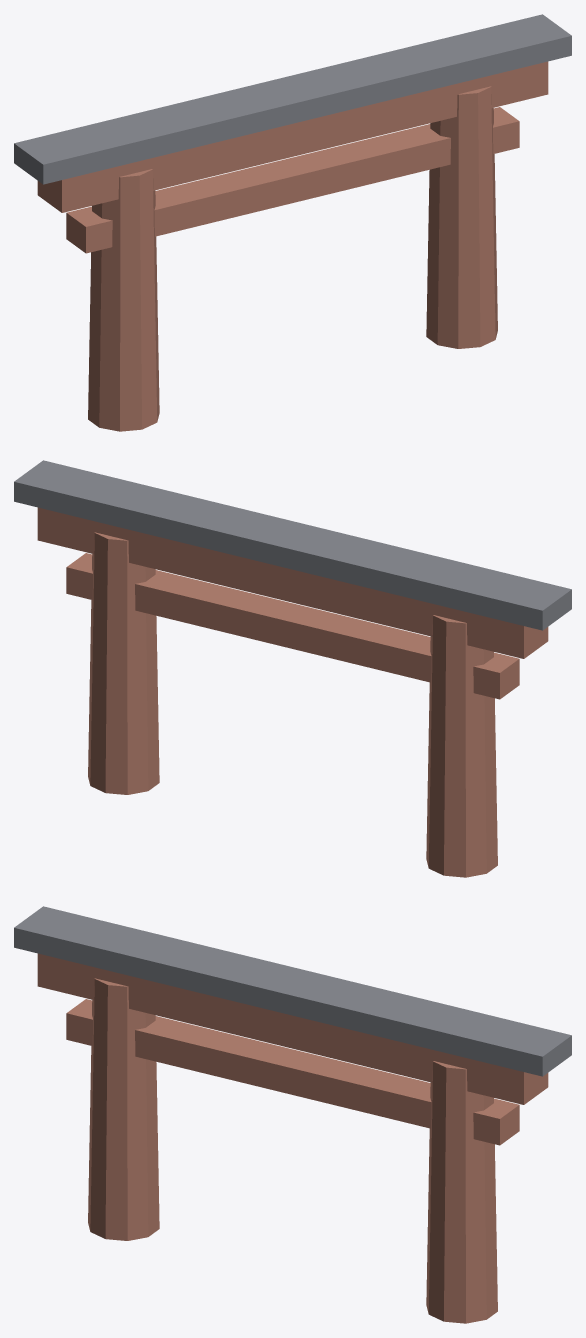
File: meiji_torii.glb
3 views of the same model, one above another, from view 1: azimuth 30°, elevation 25°; view 2: azimuth 150°, elevation 25°; view 3: azimuth 330°, elevation 25° (orthographic).
Visible parts, largest first — view 1: Cube.002, Cube.001, Cone, Cone.001, Cube; view 2: Cube.002, Cube.001, Cone, Cone.001, Cube; view 3: Cube.002, Cube.001, Cone.001, Cone, Cube.
Boxes of the visible parts, box(x1,y1,x2,y2) form: Cube.002: box(14, 14, 571, 184); Cube.001: box(66, 107, 519, 253); Cone: box(88, 169, 159, 431); Cone.001: box(426, 86, 497, 348); Cube: box(37, 61, 548, 212); Cube.002: box(14, 460, 571, 630); Cube.001: box(66, 553, 519, 699); Cone: box(426, 615, 497, 877); Cone.001: box(88, 532, 159, 794); Cube: box(37, 507, 548, 658); Cube.002: box(14, 906, 571, 1076); Cube.001: box(66, 999, 519, 1145); Cone.001: box(426, 1061, 497, 1323); Cone: box(88, 978, 159, 1240); Cube: box(37, 953, 548, 1104).
Size of the model in its own units: 25 by 12.9 by 3.
